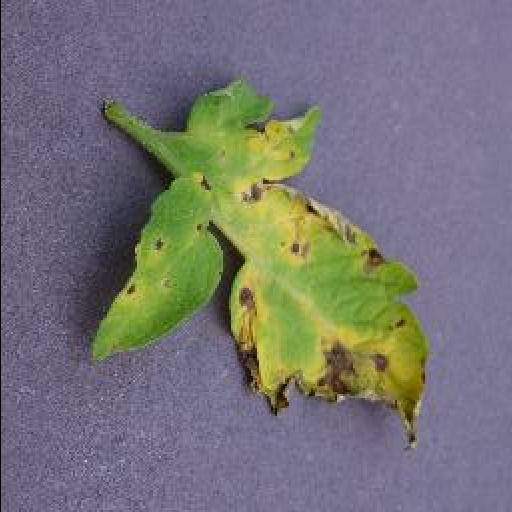disease_tomato: (86, 84, 430, 452)
